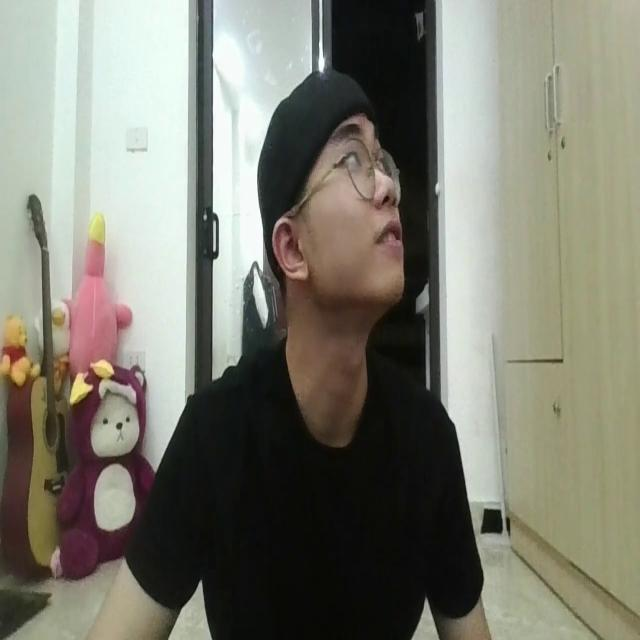student: (88, 64, 496, 640)
